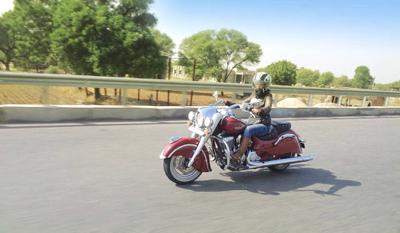With Helmet: (249, 72, 274, 93)
